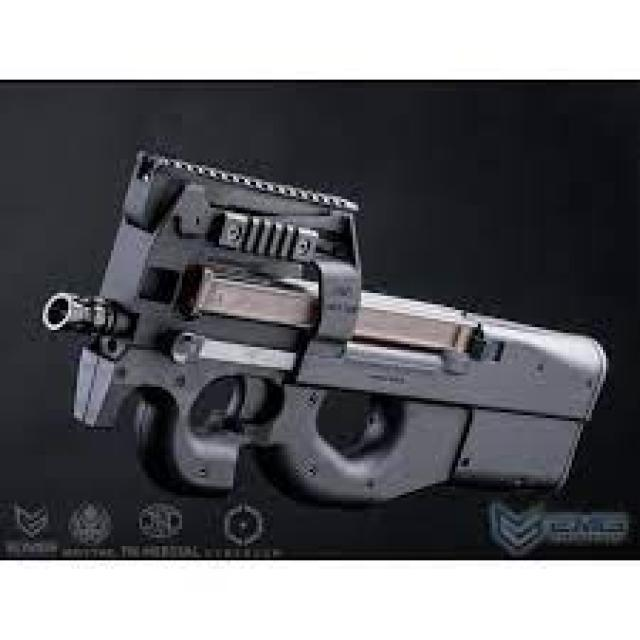Gun: (26, 123, 611, 516)
